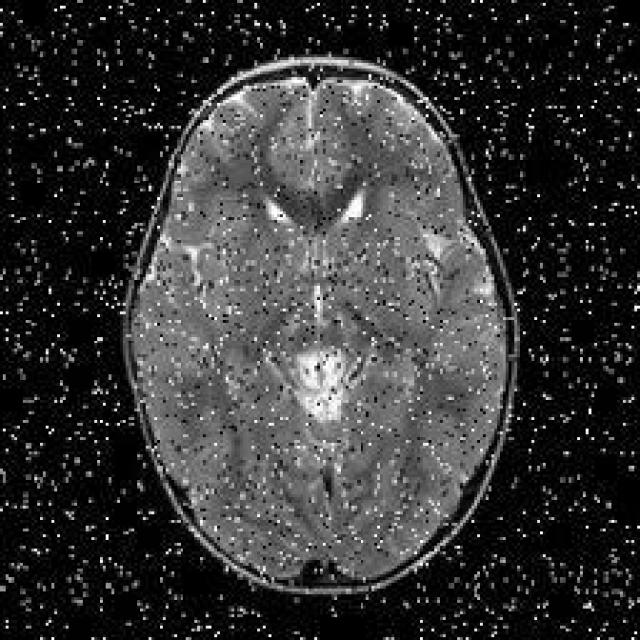no_tumor: (120, 55, 520, 612)
